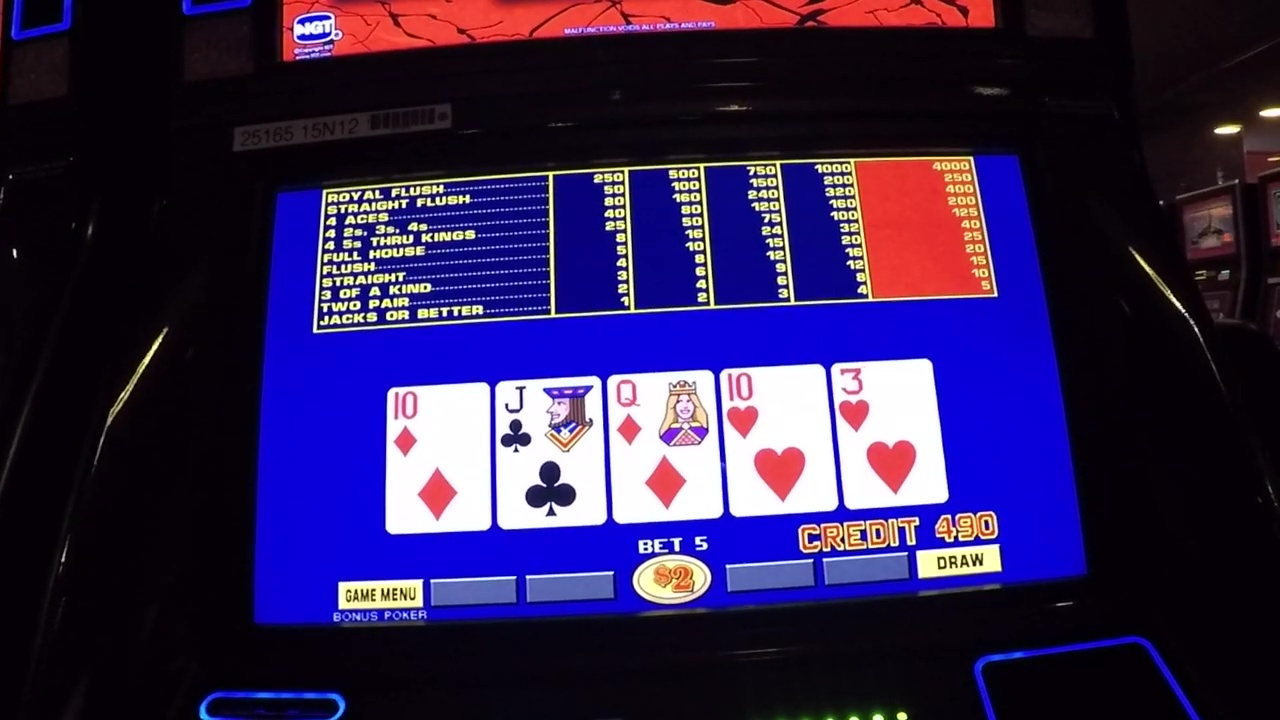CJ: (497, 382, 600, 457)
DQ: (611, 377, 710, 453)
DT: (390, 389, 488, 458)
H3: (838, 364, 933, 436)
HT: (724, 367, 824, 448)
